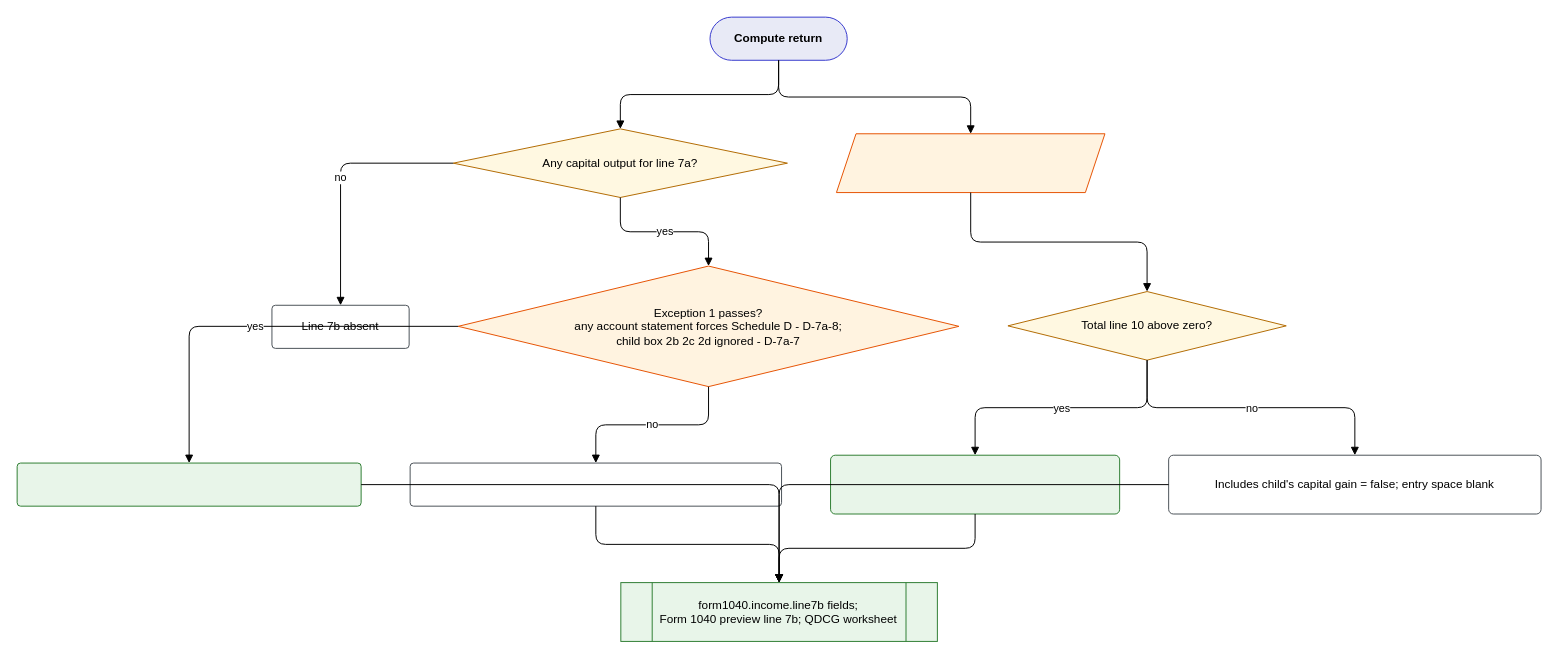
Some shapes in this 1558 by 659 pixel diagram are drawn without their labels. The shapes that lost their labels are listed below. From the top down, each one's box as (x1, y1, x2, y2) in pixels, then its label:
(835, 133, 1105, 193): Form 8814 line 10 of each child, built without an election - D-3c-1
(16, 462, 361, 506): Schedule D not required = true; no Schedule D
(409, 462, 782, 506): Schedule D not required = false; Schedule D built
(830, 454, 1120, 514): Includes child's capital gain = true; entry space = total line 10
